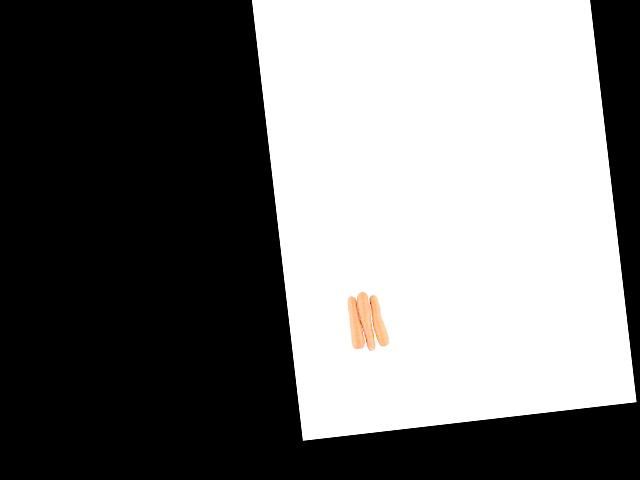carrot: (344, 290, 364, 353)
